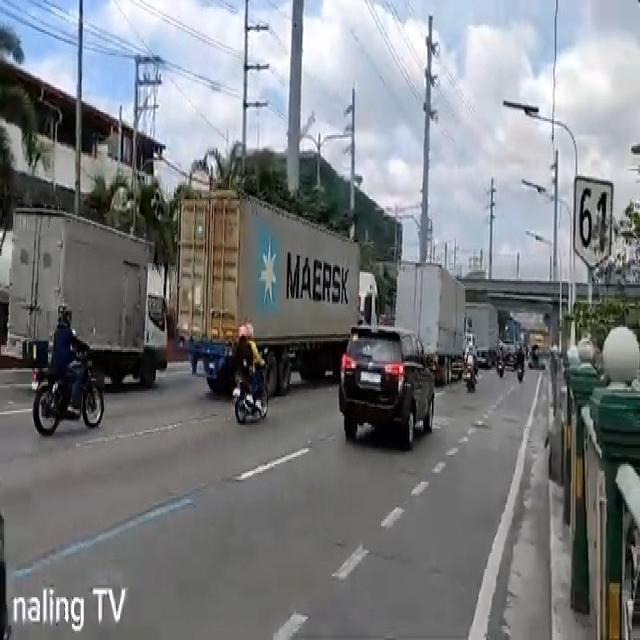car: (338, 322, 435, 448)
motorcycle: (24, 302, 105, 436), (232, 322, 270, 425), (466, 333, 480, 394), (497, 337, 505, 378)
truck: (176, 190, 380, 400), (7, 209, 169, 389), (396, 255, 469, 387), (466, 299, 501, 373)
